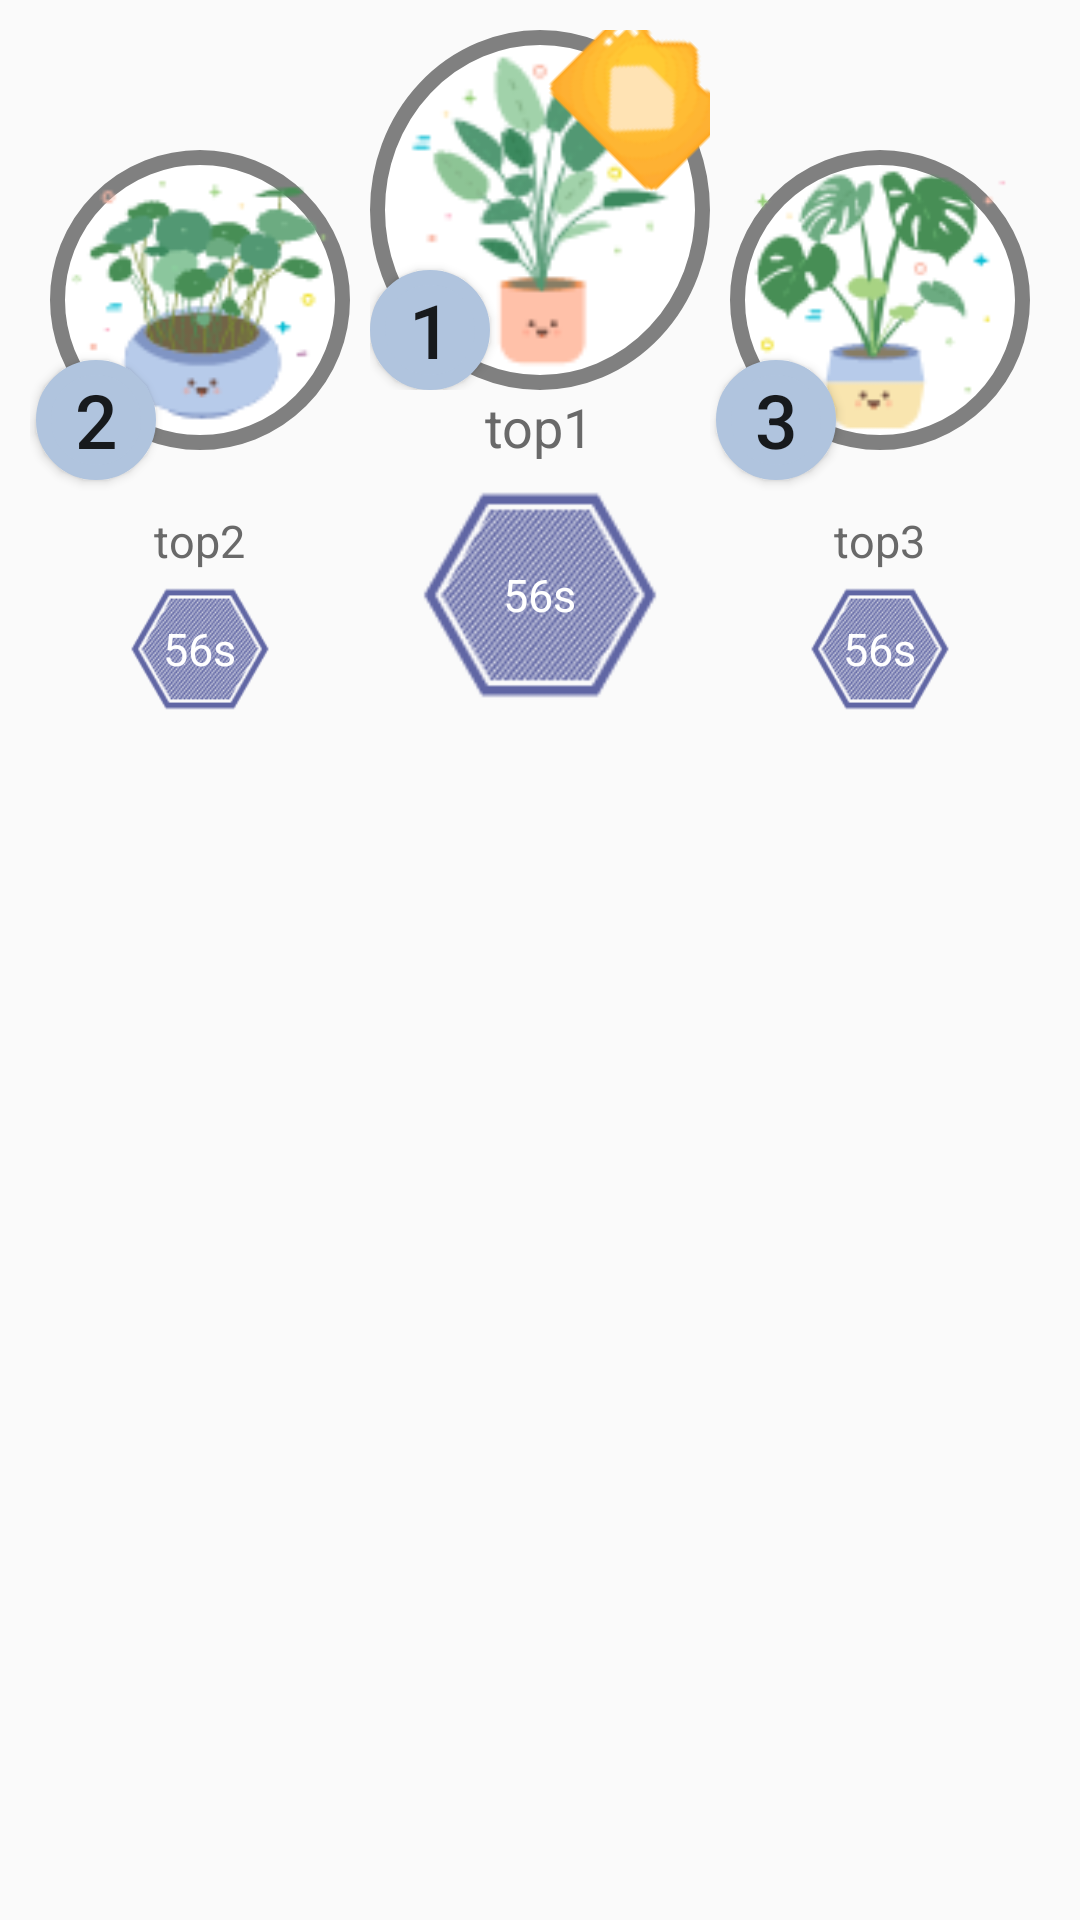

Point at icon controls on the screen. Image size 1080x1920, points as point (x, y).
hexagon: point (540, 595), point (200, 649), point (880, 649)
